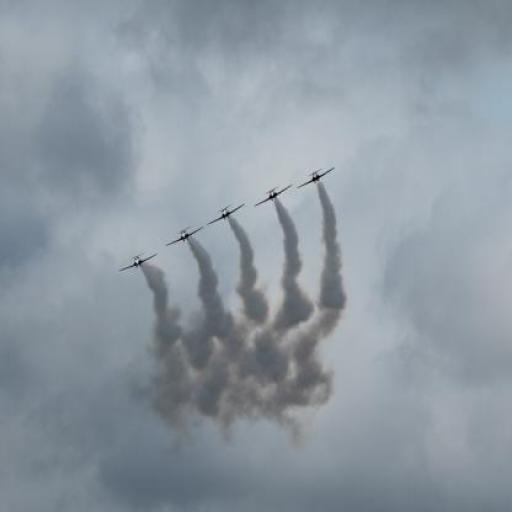aircraft: (117, 249, 161, 273), (300, 162, 335, 190), (254, 182, 294, 206), (208, 202, 246, 225), (164, 227, 206, 246)
